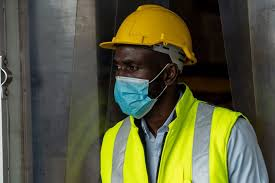Helmet: (96, 6, 209, 59)
Jacket: (98, 116, 255, 183)
Mask: (108, 75, 173, 115)
